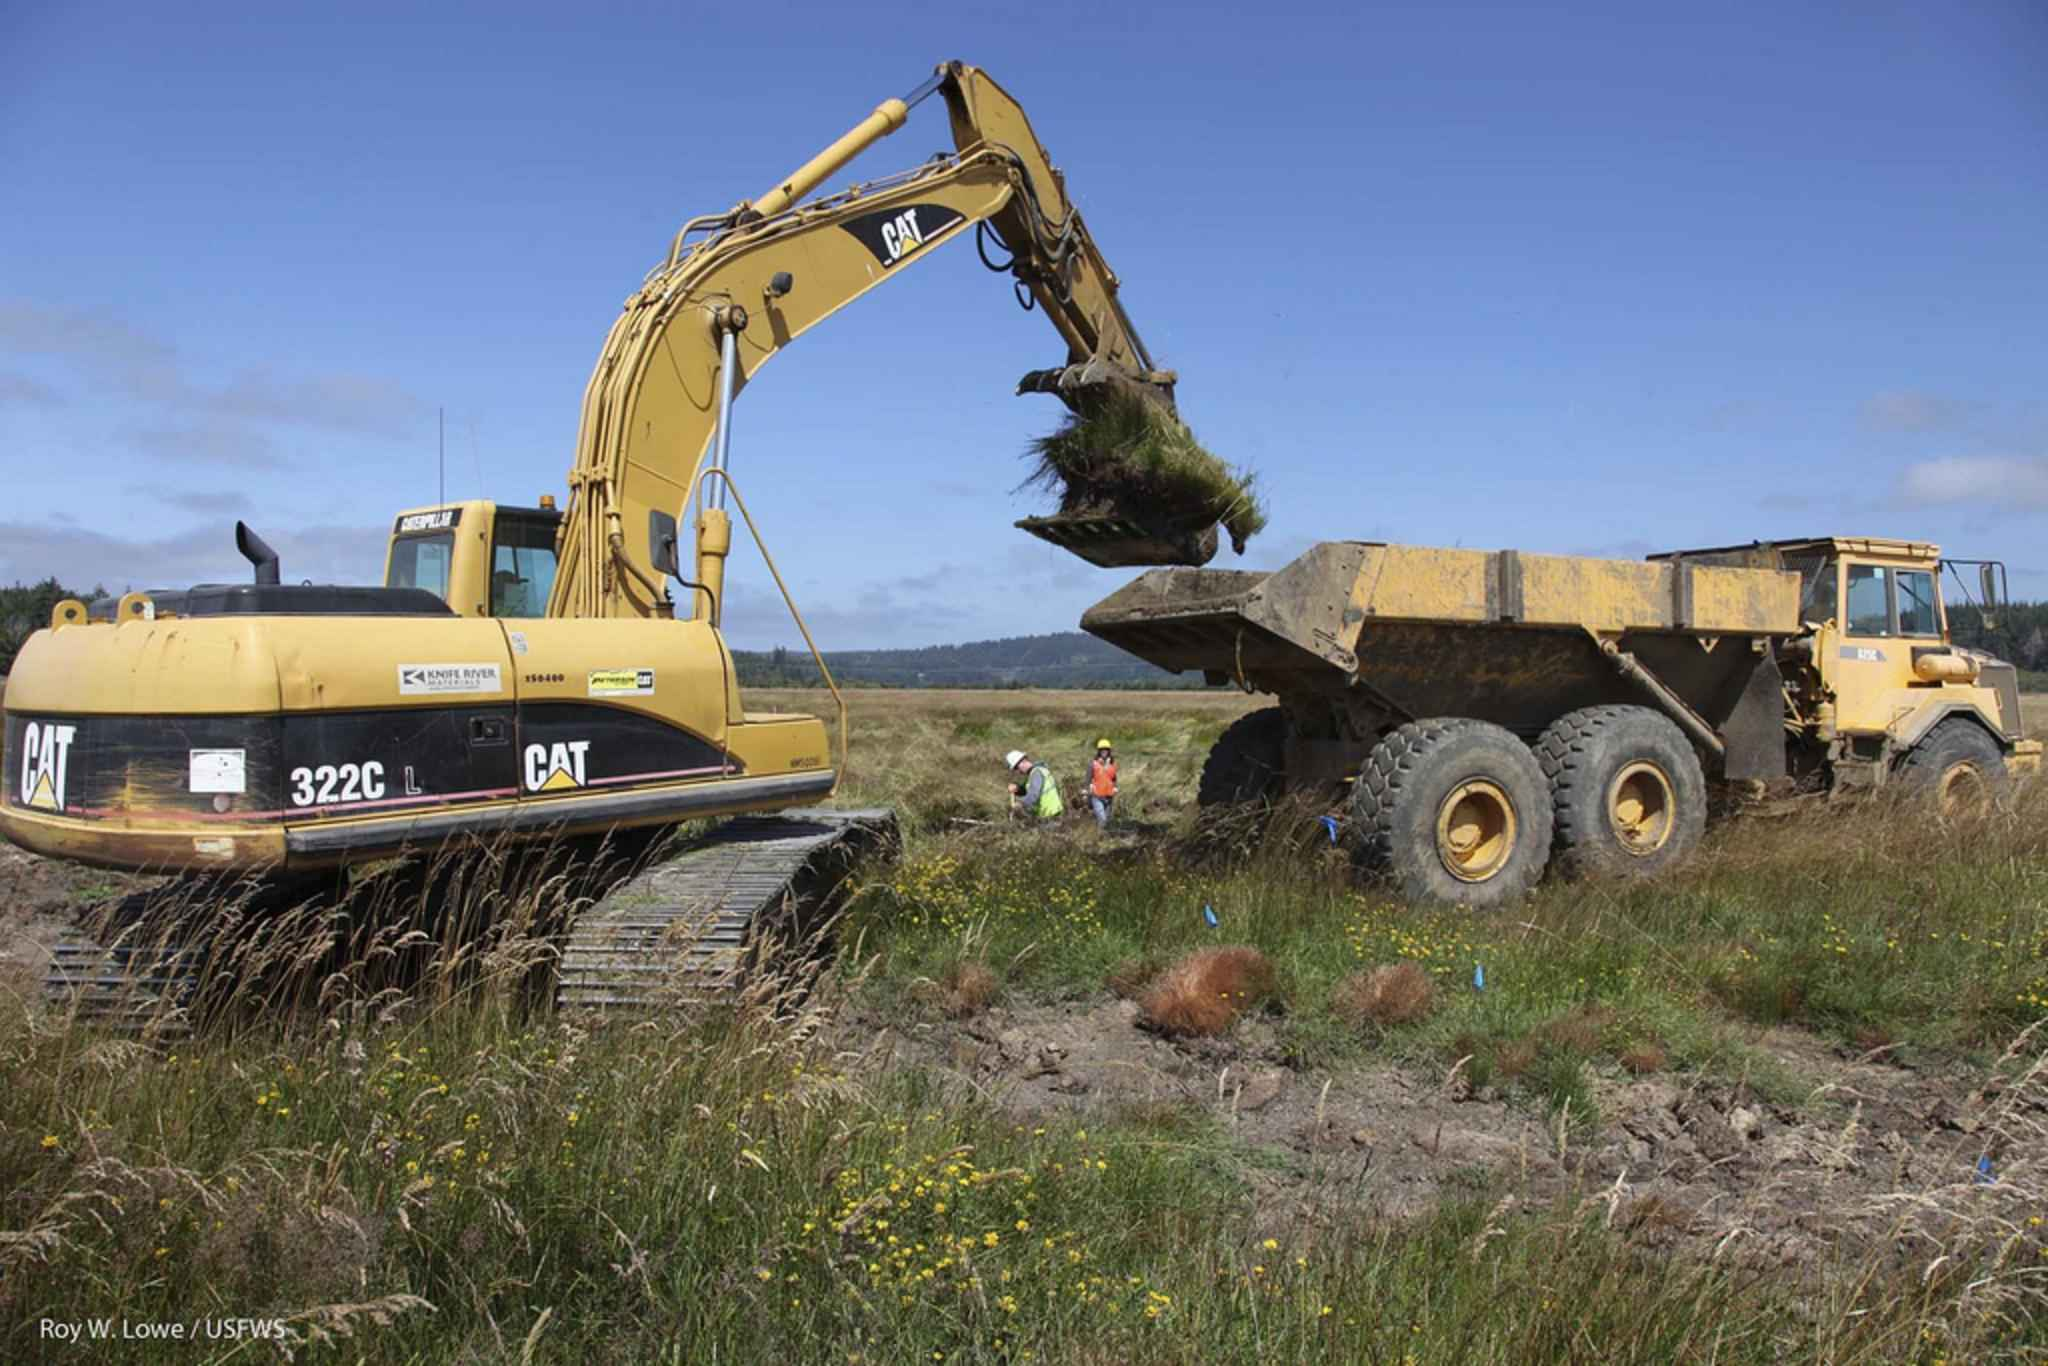excavator: (0, 56, 1274, 1053)
truck: (1096, 512, 2031, 918)
